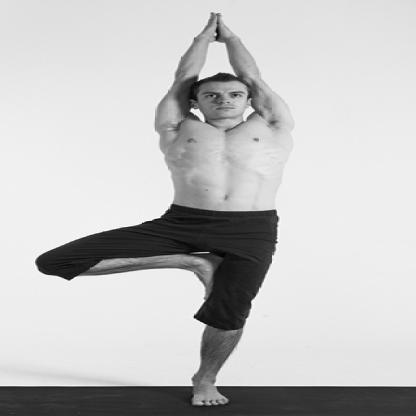tree: (26, 6, 314, 408)
